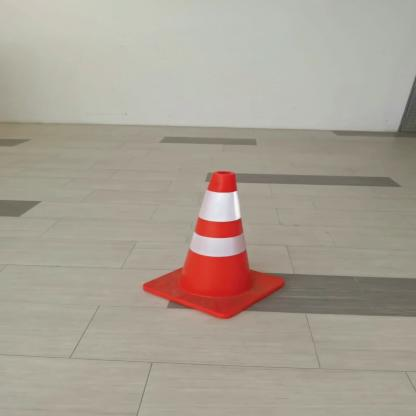cone: (139, 165, 293, 323)
